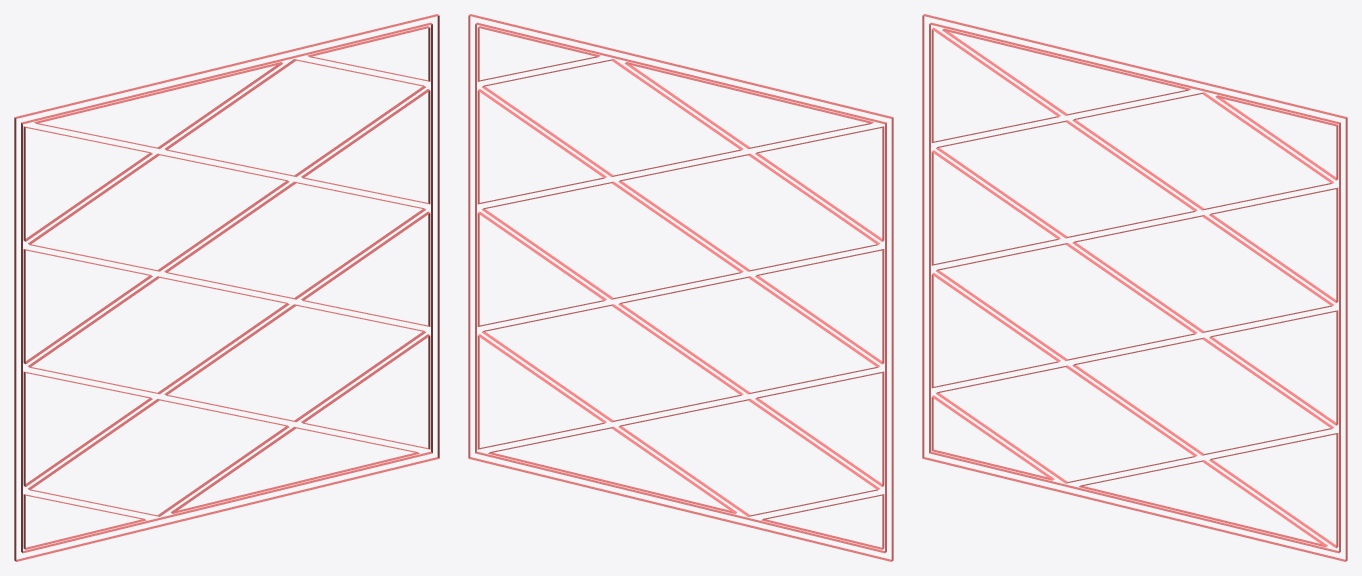
Rendered from 20210701_Diamond_grid.obj.
3 renders of one model, left to right at view 1: azimuth 30°, elevation 25°; view 2: azimuth 150°, elevation 25°; view 3: azimuth 330°, elevation 25°, orthographic.
Bounding box in the file's own units: 206 × 206 × 1.95.
